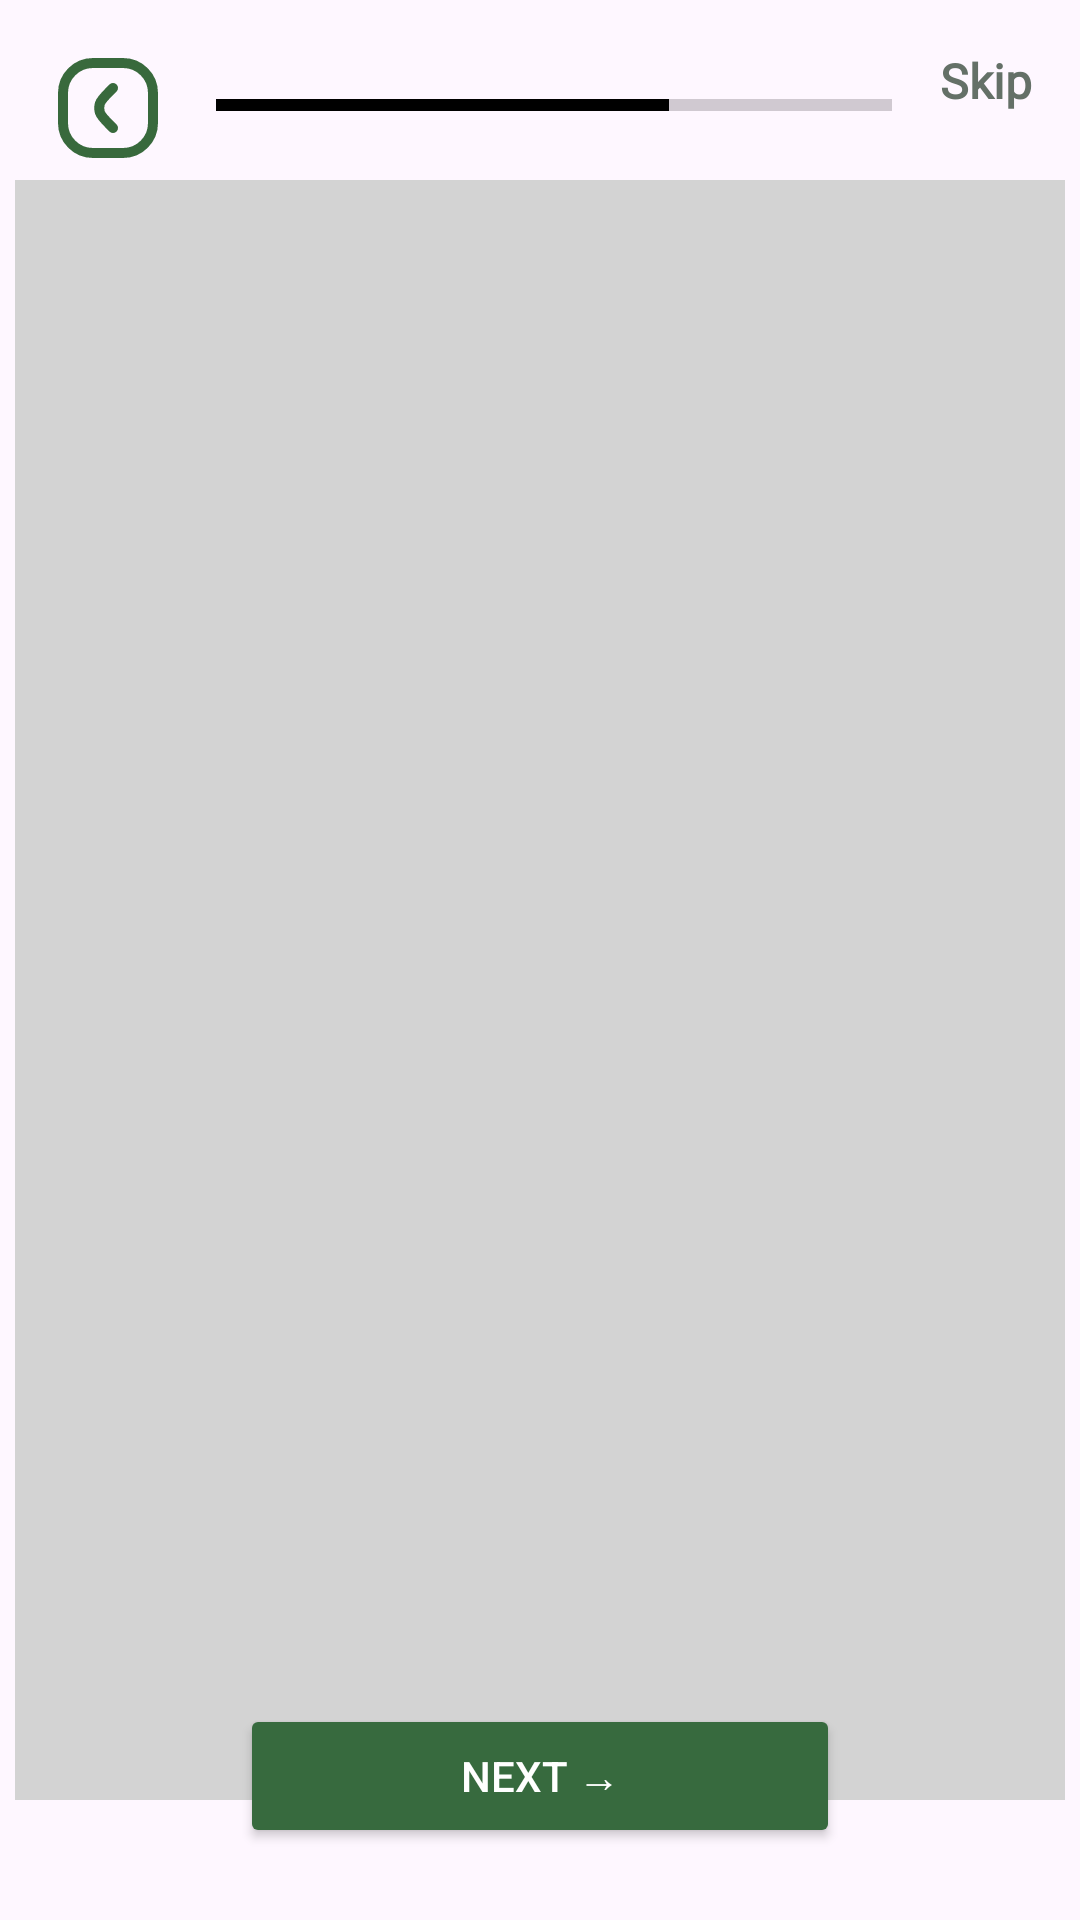

Named icons in this screenshot (1080px×1920px) and their bounding boxes, (x1, y1, x2, y2):
back: (58, 58, 158, 158)
